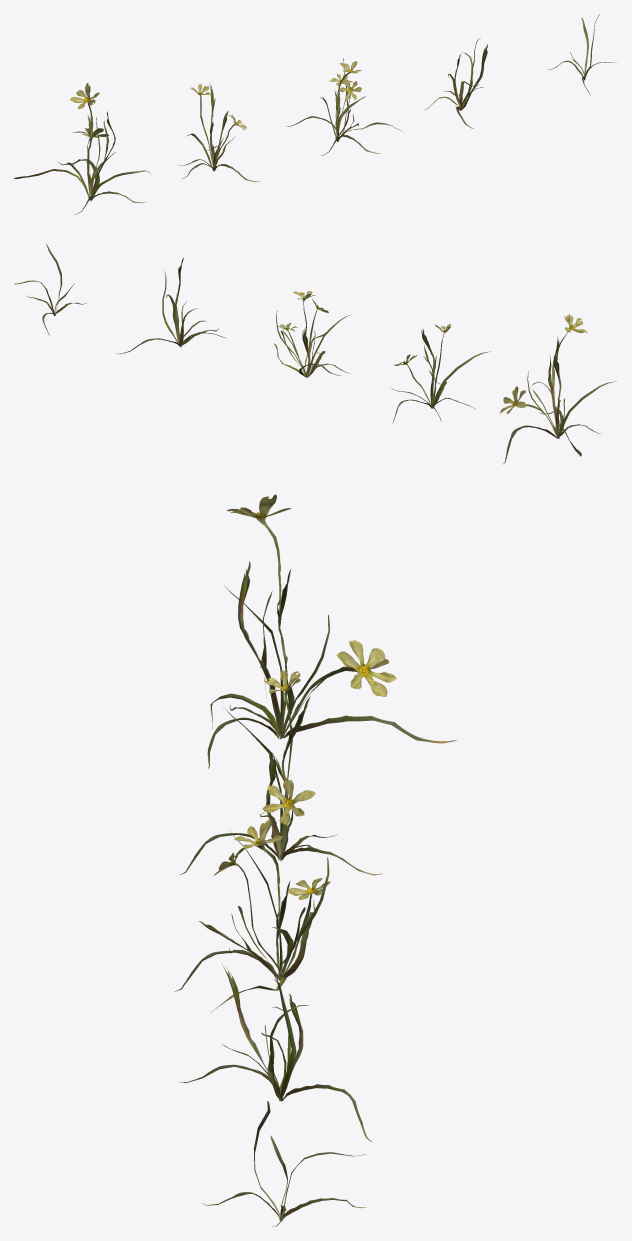
The model's file is flower_empodium.gltf.
3 renders of one model, top to bottom at view 1: azimuth 30°, elevation 25°; view 2: azimuth 150°, elevation 25°; view 3: azimuth 270°, elevation 25°, orthographic. The views are drawn at different scales.
Visible parts, largest first — view 1: flower_empodium_a_LOD0, flower_empodium_c_LOD0, flower_empodium_b_LOD0, flower_empodium_d_LOD0, flower_empodium_e_LOD0; view 2: flower_empodium_a_LOD0, flower_empodium_c_LOD0, flower_empodium_b_LOD0, flower_empodium_d_LOD0, flower_empodium_e_LOD0; view 3: flower_empodium_a_LOD0, flower_empodium_c_LOD0, flower_empodium_b_LOD0, flower_empodium_d_LOD0, flower_empodium_e_LOD0.
Boxes of the visible parts, x1,y1,x2,y2 form: flower_empodium_a_LOD0: (14,82,151,214); flower_empodium_c_LOD0: (286,58,402,155); flower_empodium_b_LOD0: (179,84,259,181); flower_empodium_d_LOD0: (424,39,487,128); flower_empodium_e_LOD0: (548,14,616,95); flower_empodium_a_LOD0: (500,314,616,463); flower_empodium_c_LOD0: (274,291,351,377); flower_empodium_b_LOD0: (390,324,491,423); flower_empodium_d_LOD0: (116,257,226,354); flower_empodium_e_LOD0: (14,243,88,335); flower_empodium_a_LOD0: (207,494,456,768); flower_empodium_c_LOD0: (175,819,330,1012); flower_empodium_b_LOD0: (180,669,382,875); flower_empodium_d_LOD0: (179,963,371,1141); flower_empodium_e_LOD0: (202,1101,366,1226).
Size of the model in its own units: 1.32 by 0.2684 by 0.2841.
1 material, 1 textured.
